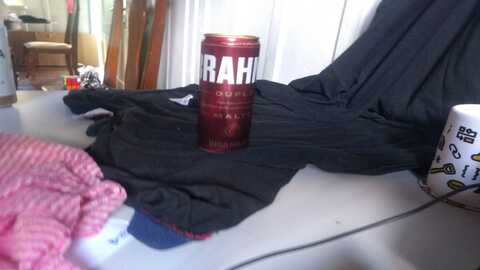duplo_malte: (197, 29, 262, 148)
